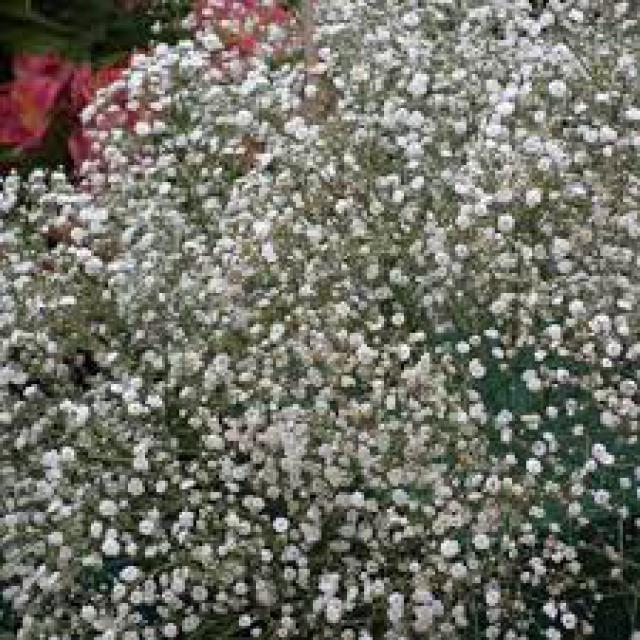gypsophila: (99, 53, 381, 308), (186, 316, 442, 547), (9, 374, 180, 620), (492, 138, 629, 408), (9, 151, 160, 364)
